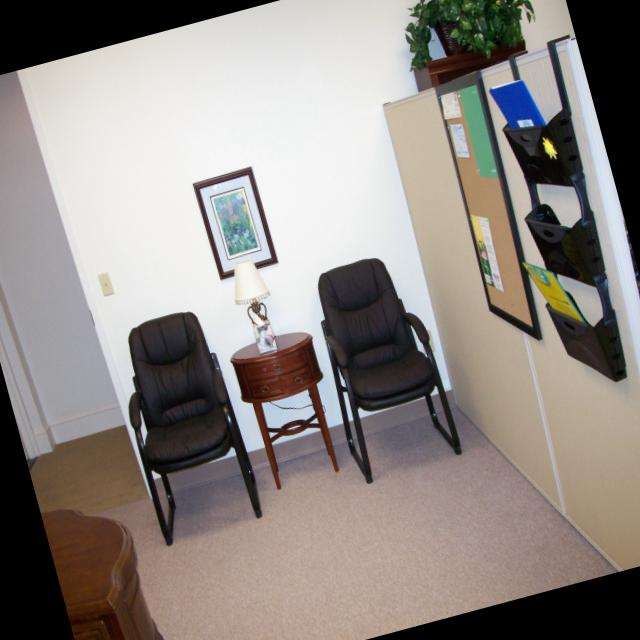armchair crop: (317, 256, 461, 480), (128, 310, 260, 544)
auxiliary table: (230, 331, 338, 485)
basket crop: (432, 6, 514, 51)
board occluded: (434, 69, 542, 337)
floor -X: (26, 353, 640, 640)
furniture occluded: (41, 507, 165, 640)
furniture toy: (411, 38, 527, 89)
lamp crop: (235, 258, 275, 345)
magazine: (503, 37, 629, 377)
magazine holder: (521, 262, 586, 322)
plant -x: (407, 0, 534, 62)
separation: (383, 38, 640, 570)
switch: (97, 270, 114, 295)
wall clock: (17, 0, 640, 501), (0, 71, 124, 456)
